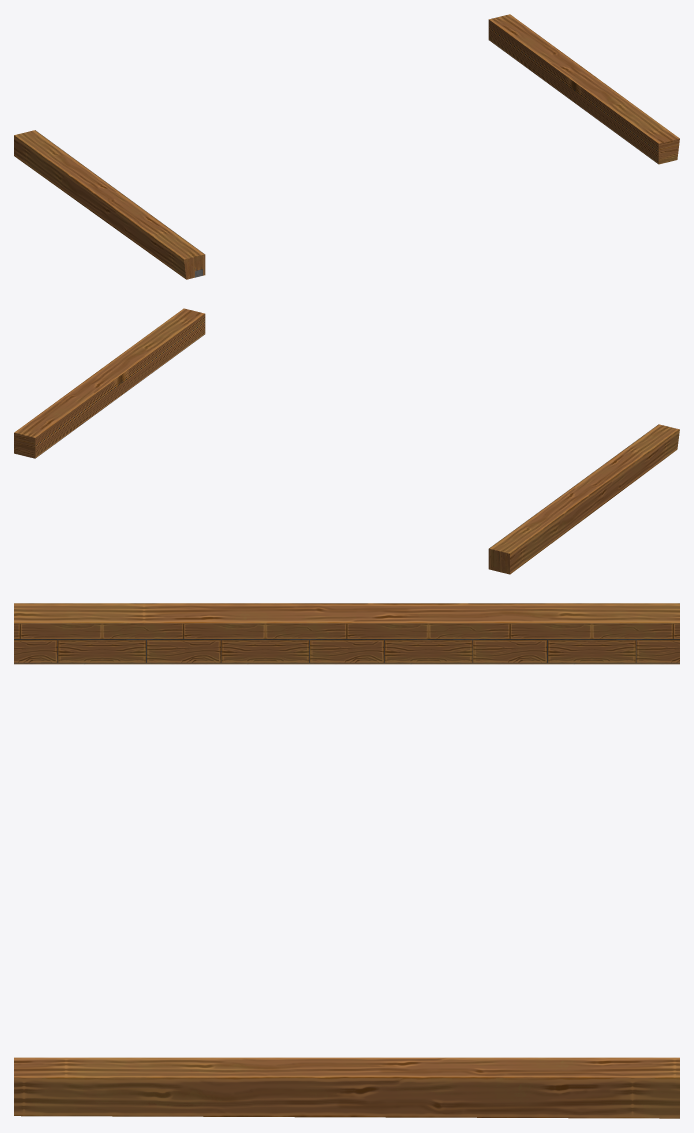
The picture shows the model from 3 angles, top to bottom: view 1: azimuth 30°, elevation 25°; view 2: azimuth 150°, elevation 25°; view 3: azimuth 270°, elevation 25°; orthographic projection. The views are drawn at different scales.
Visible parts, largest first — view 1: Cube.1607; view 2: Cube.1607; view 3: Cube.1607.
Part boxes in pixels (left/top/right/bottom): Cube.1607: left=14, top=14, right=679, bottom=279; Cube.1607: left=14, top=308, right=679, bottom=574; Cube.1607: left=14, top=603, right=679, bottom=1118.
Bounding box in the file's own units: 1047 × 41.93 × 621.
1 material, 1 textured.
